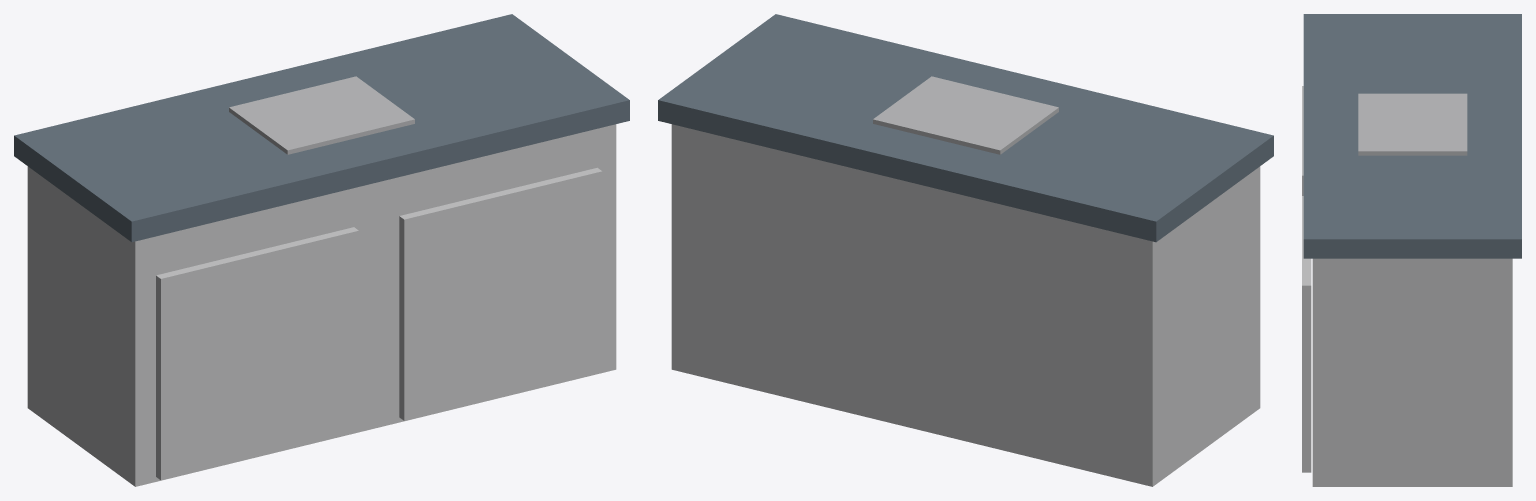
Rendered from mesada_cocina.glb.
3 views of the same model, side by side, from view 1: azimuth 30°, elevation 25°; view 2: azimuth 150°, elevation 25°; view 3: azimuth 270°, elevation 25° (orthographic). The views are drawn at different scales.
Parts seen in each view (by area): view 1: mesada_cocina_01, mesada_cocina_00, mesada_cocina_04, mesada_cocina_03, mesada_cocina_02; view 2: mesada_cocina_00, mesada_cocina_01, mesada_cocina_02; view 3: mesada_cocina_01, mesada_cocina_00, mesada_cocina_02, mesada_cocina_04.
Boxes of the visible parts, left/top/right/bottom form: mesada_cocina_01: left=14, top=14, right=629, bottom=242; mesada_cocina_00: left=27, top=124, right=616, bottom=486; mesada_cocina_04: left=399, top=167, right=602, bottom=420; mesada_cocina_03: left=156, top=227, right=358, bottom=480; mesada_cocina_02: left=229, top=76, right=414, bottom=154; mesada_cocina_00: left=671, top=124, right=1260, bottom=486; mesada_cocina_01: left=658, top=14, right=1273, bottom=242; mesada_cocina_02: left=873, top=76, right=1058, bottom=154; mesada_cocina_01: left=1303, top=14, right=1521, bottom=258; mesada_cocina_00: left=1312, top=258, right=1512, bottom=486; mesada_cocina_02: left=1358, top=93, right=1467, bottom=155; mesada_cocina_04: left=1302, top=196, right=1311, bottom=472.
Size of the model in its own units: 1.76 by 0.93 by 0.725.
